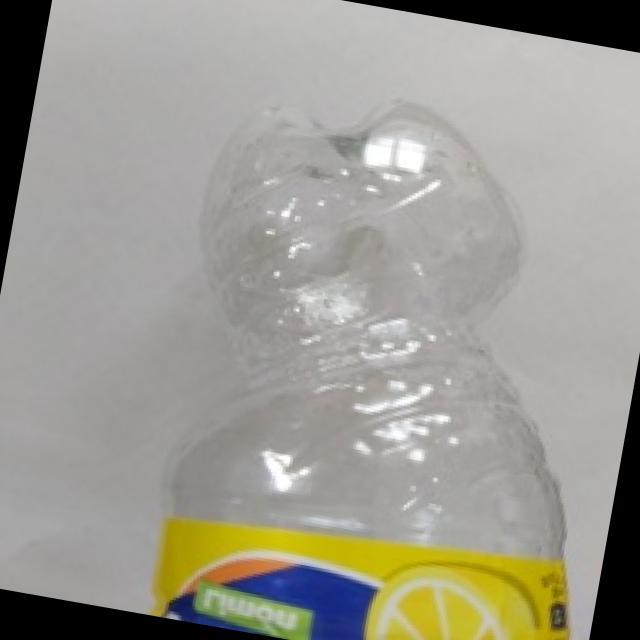good: (147, 58, 640, 640)
